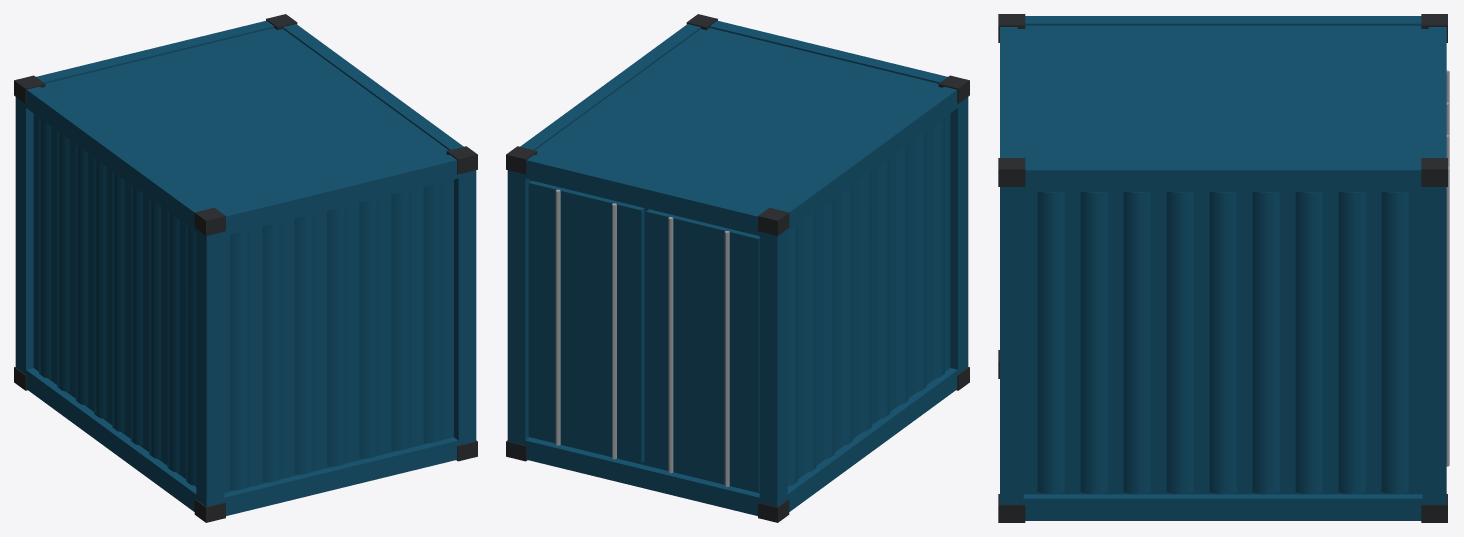
Rendered from plant.cabin.store_10.glb.
The picture shows the model from 3 angles, left to right: view 1: azimuth 30°, elevation 25°; view 2: azimuth 150°, elevation 25°; view 3: azimuth 270°, elevation 25°; orthographic projection. The views are drawn at different scales.
Visible parts, largest first — view 1: main__container_blue, frame__container_blue, frame__steel_dark; view 2: main__container_blue, frame__container_blue, main__steel_galvanised, frame__steel_dark; view 3: main__container_blue, frame__container_blue, frame__steel_dark, main__steel_galvanised.
Boxes of the visible parts, left/top/right/bottom form: main__container_blue: left=33, top=28, right=453, bottom=493; frame__container_blue: left=15, top=20, right=476, bottom=515; frame__steel_dark: left=14, top=14, right=477, bottom=522; main__container_blue: left=528, top=28, right=950, bottom=493; frame__container_blue: left=507, top=20, right=968, bottom=515; main__steel_galvanised: left=555, top=189, right=729, bottom=486; frame__steel_dark: left=506, top=14, right=969, bottom=522; main__container_blue: left=1017, top=25, right=1428, bottom=494; frame__container_blue: left=1000, top=16, right=1446, bottom=520; frame__steel_dark: left=998, top=14, right=1447, bottom=522; main__steel_galvanised: left=1446, top=70, right=1449, bottom=466.
Bounding box in the file's own units: 2.46 × 2.61 × 3.02.
